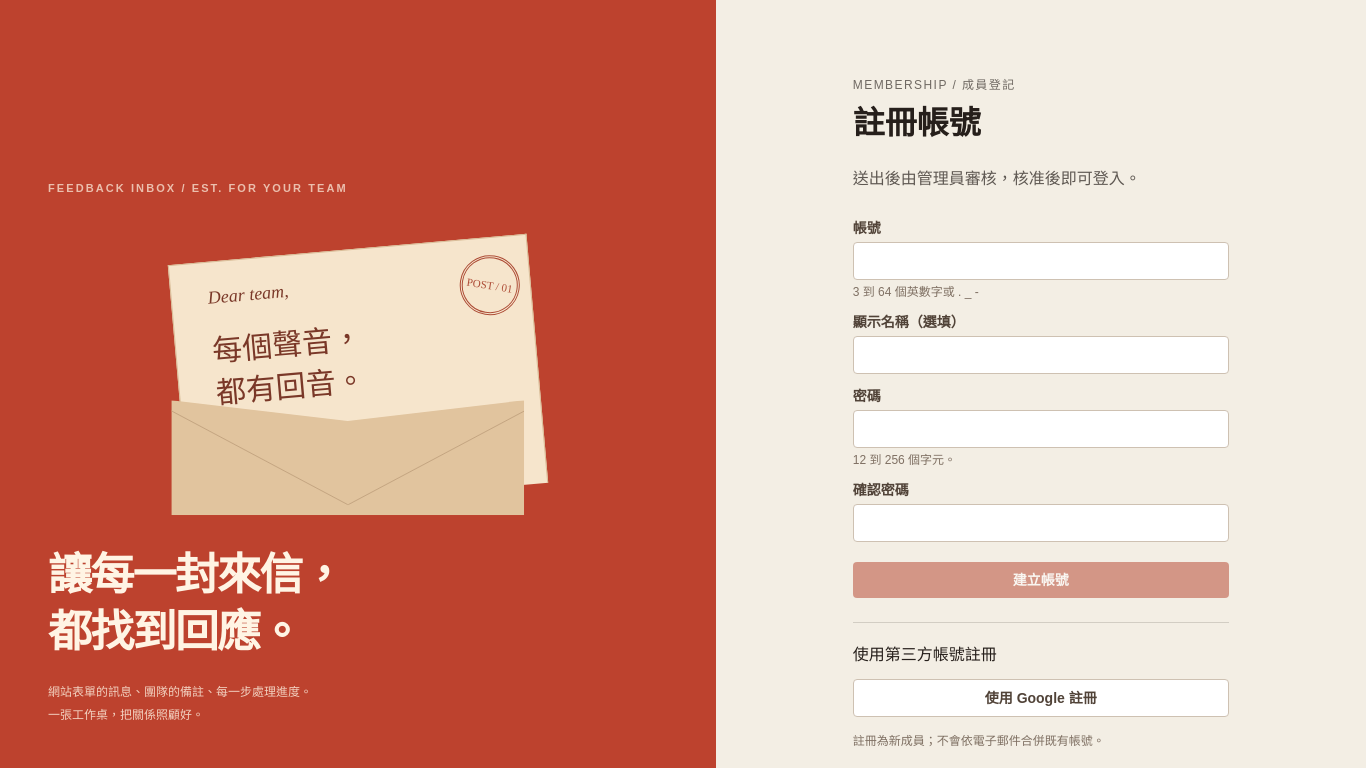
Test: confirmation mismatch prevents signup and approval result stays outside workspace
The width and height of the screenshot is (1366, 768).
Type "new.reader" into the field labelled "帳號" at (1041, 261), box [853,242,1229,280]
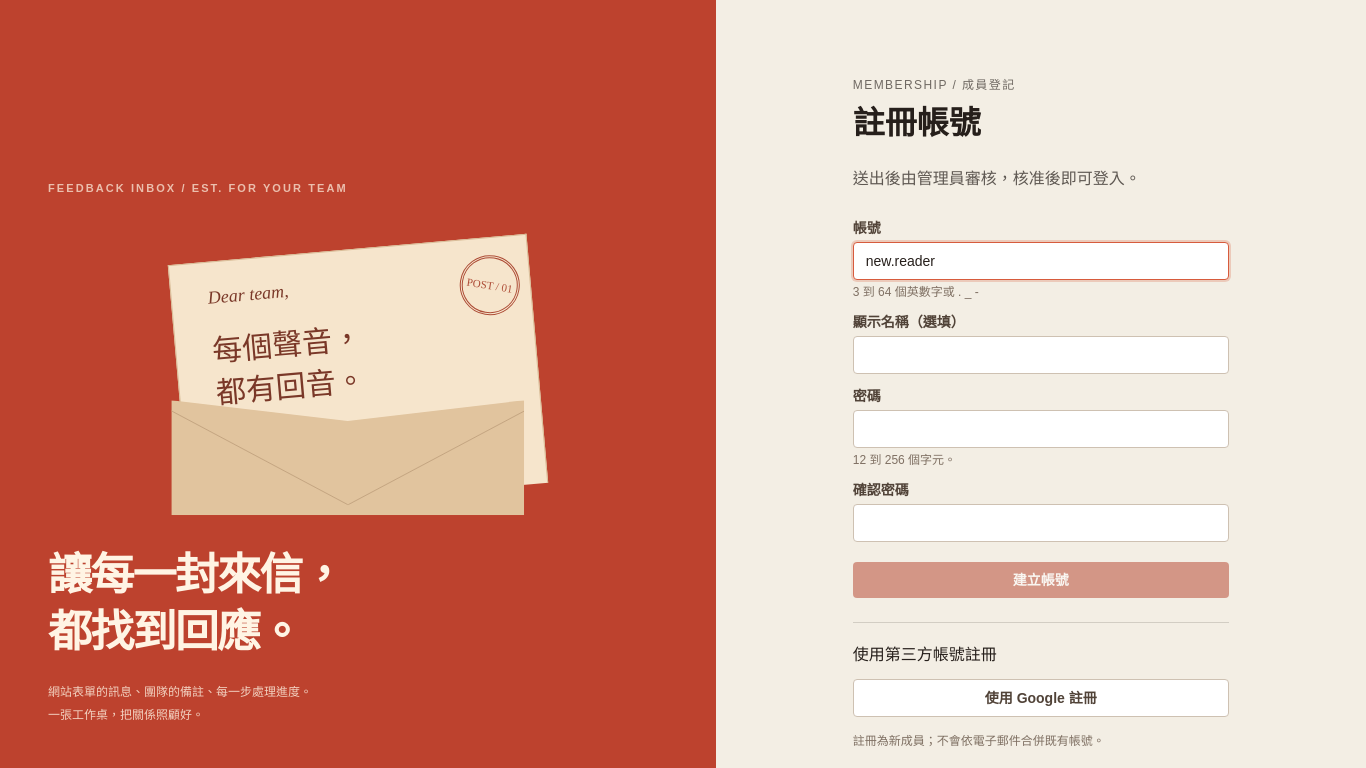
Type "long enough password" into the password field labelled "密碼" at (1041, 429), box [853,410,1229,448]
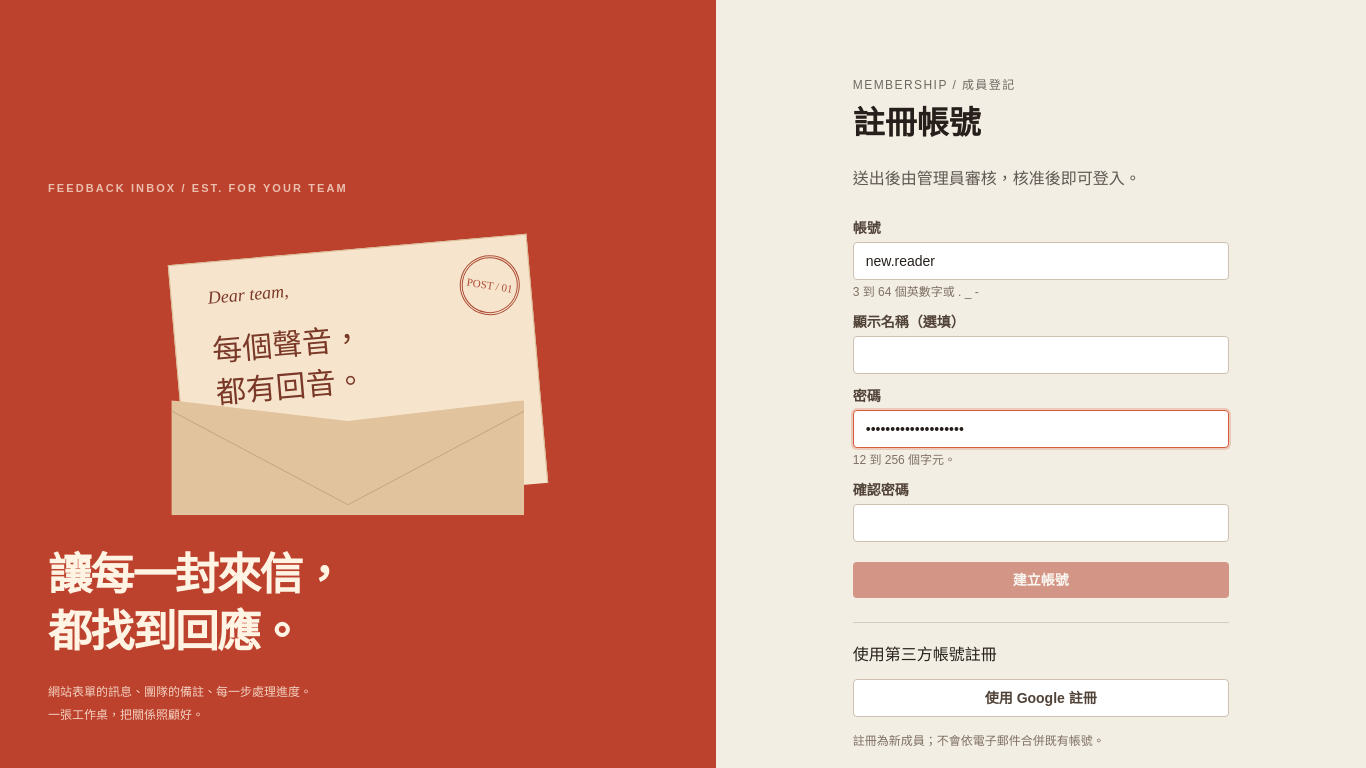
Type "different password" into the password field labelled "確認密碼" at (1041, 523), box [853,504,1229,542]
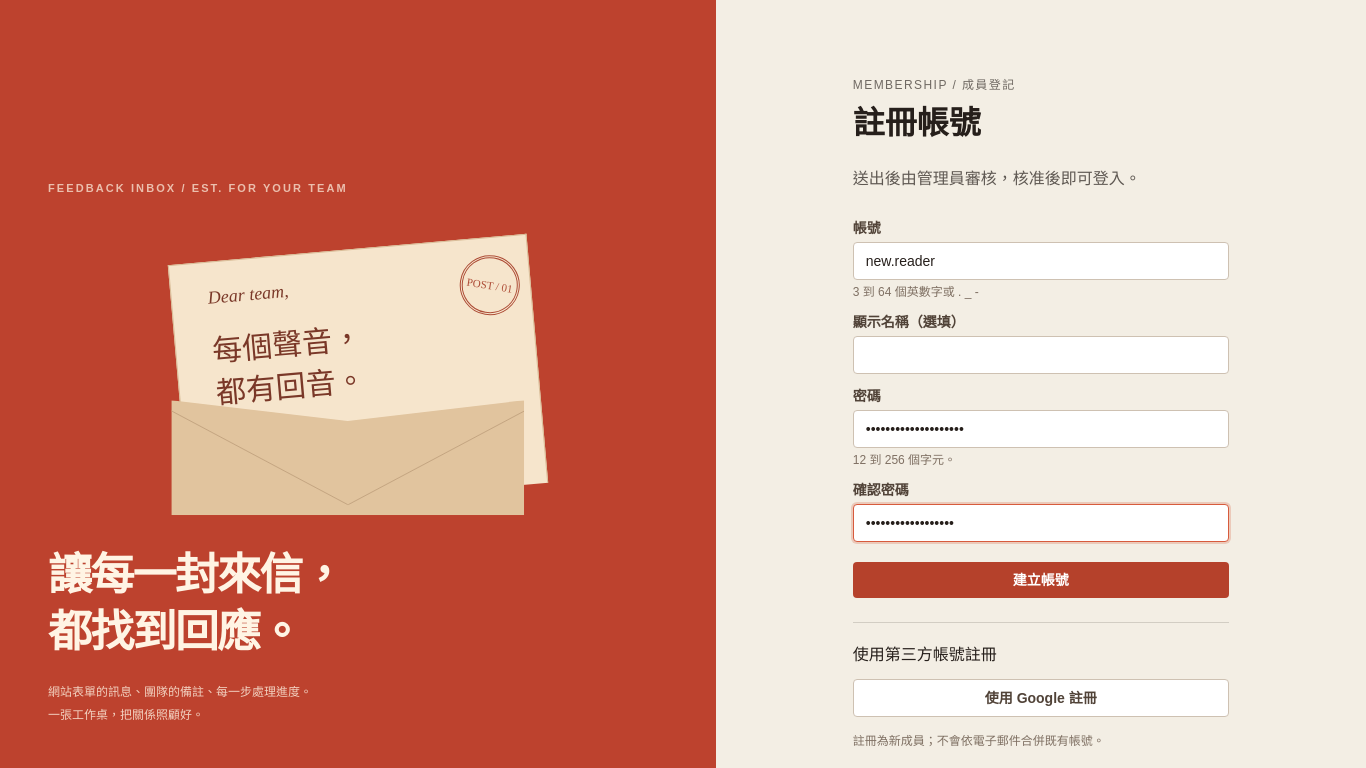
Click the button "建立帳號" at (1041, 580), box [853,562,1229,598]
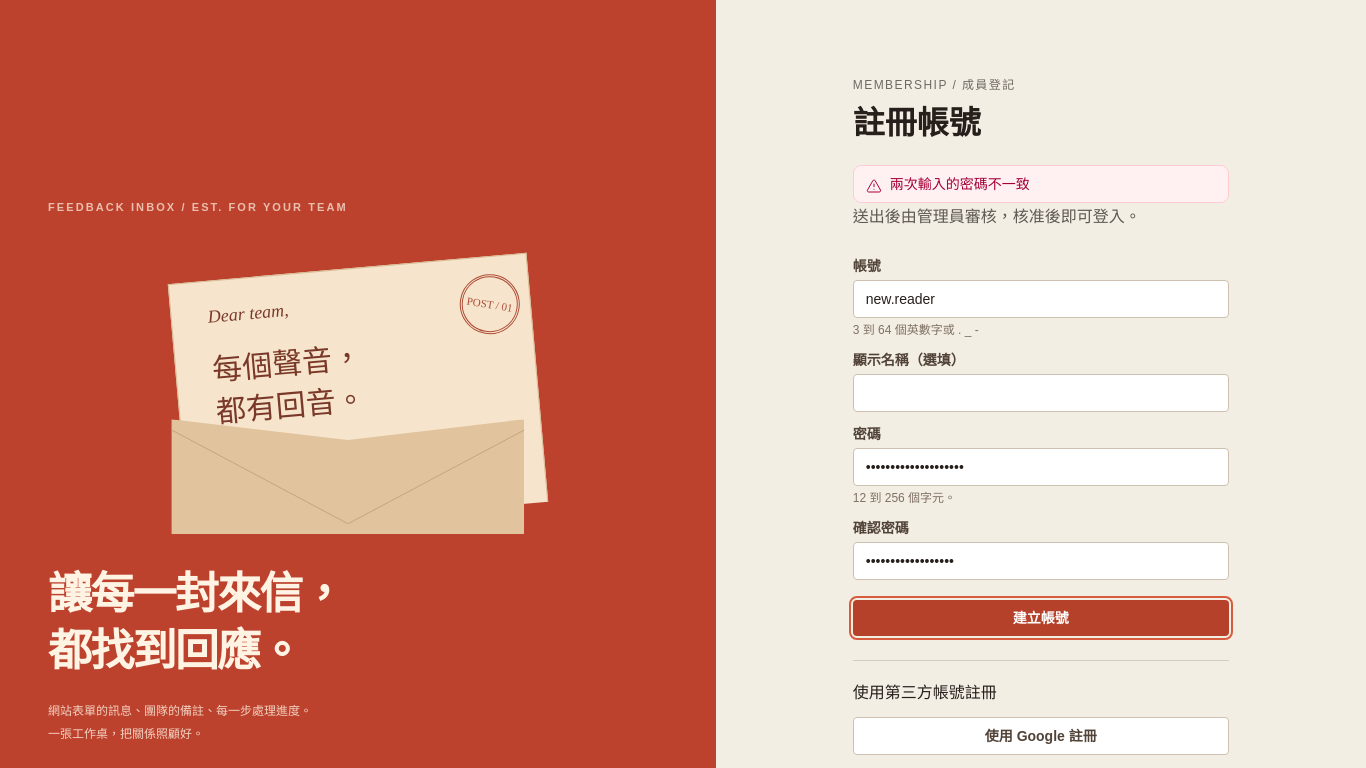
Expected: the message reads "兩次輸入的密碼不一致", [890,176,1030,192]
Type "long enough password" into the password field labelled "確認密碼" at (1041, 561), box [853,542,1229,580]
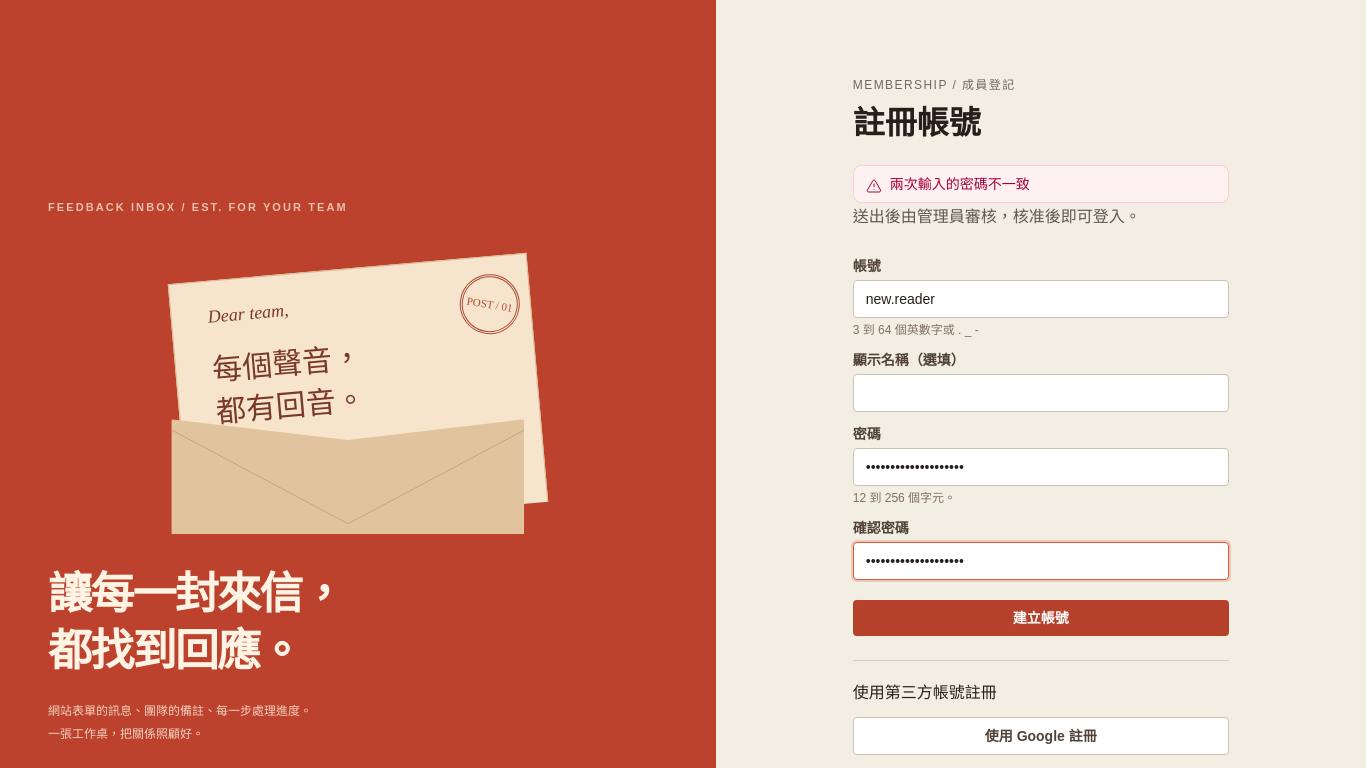
Click the button "建立帳號" at (1041, 618), box [853,600,1229,636]
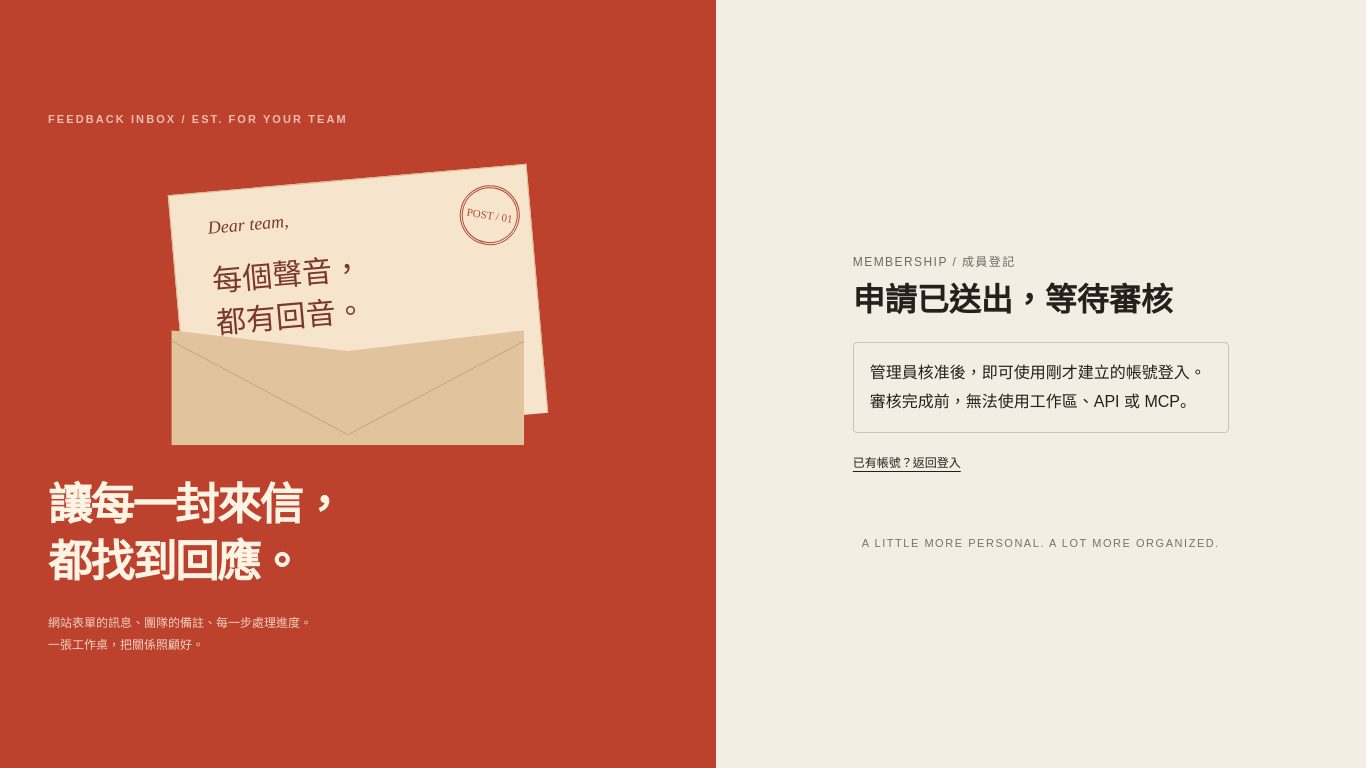
Expected: the heading "申請已送出，等待審核" is shown, [853,279,1229,322]
